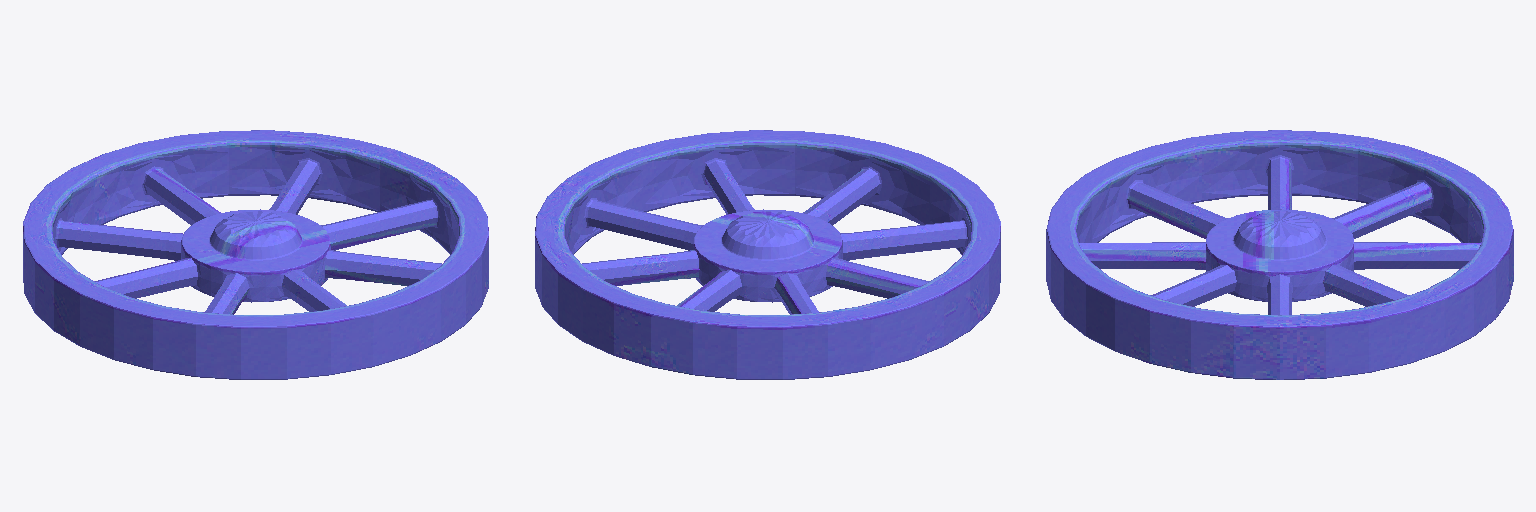
The picture shows the model from 3 angles: view 1: azimuth 30°, elevation 25°; view 2: azimuth 150°, elevation 25°; view 3: azimuth 270°, elevation 25°; orthographic projection.
Visible parts, largest first — view 1: wheel:polySurface449; view 2: wheel:polySurface449; view 3: wheel:polySurface449.
Part boxes in pixels (bbox=[...]): wheel:polySurface449: bbox=[23, 130, 488, 379]; wheel:polySurface449: bbox=[535, 130, 1000, 379]; wheel:polySurface449: bbox=[1046, 130, 1513, 379].
Size of the model in its own units: 48.82 by 7.99 by 48.82.
Materials: 1 (1 with a texture image).